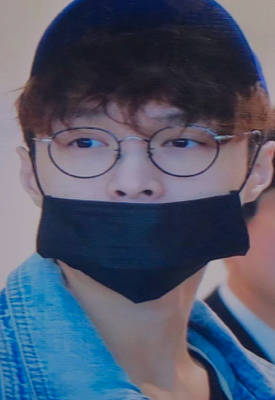mask_weared_incorrect: (34, 107, 252, 304)
